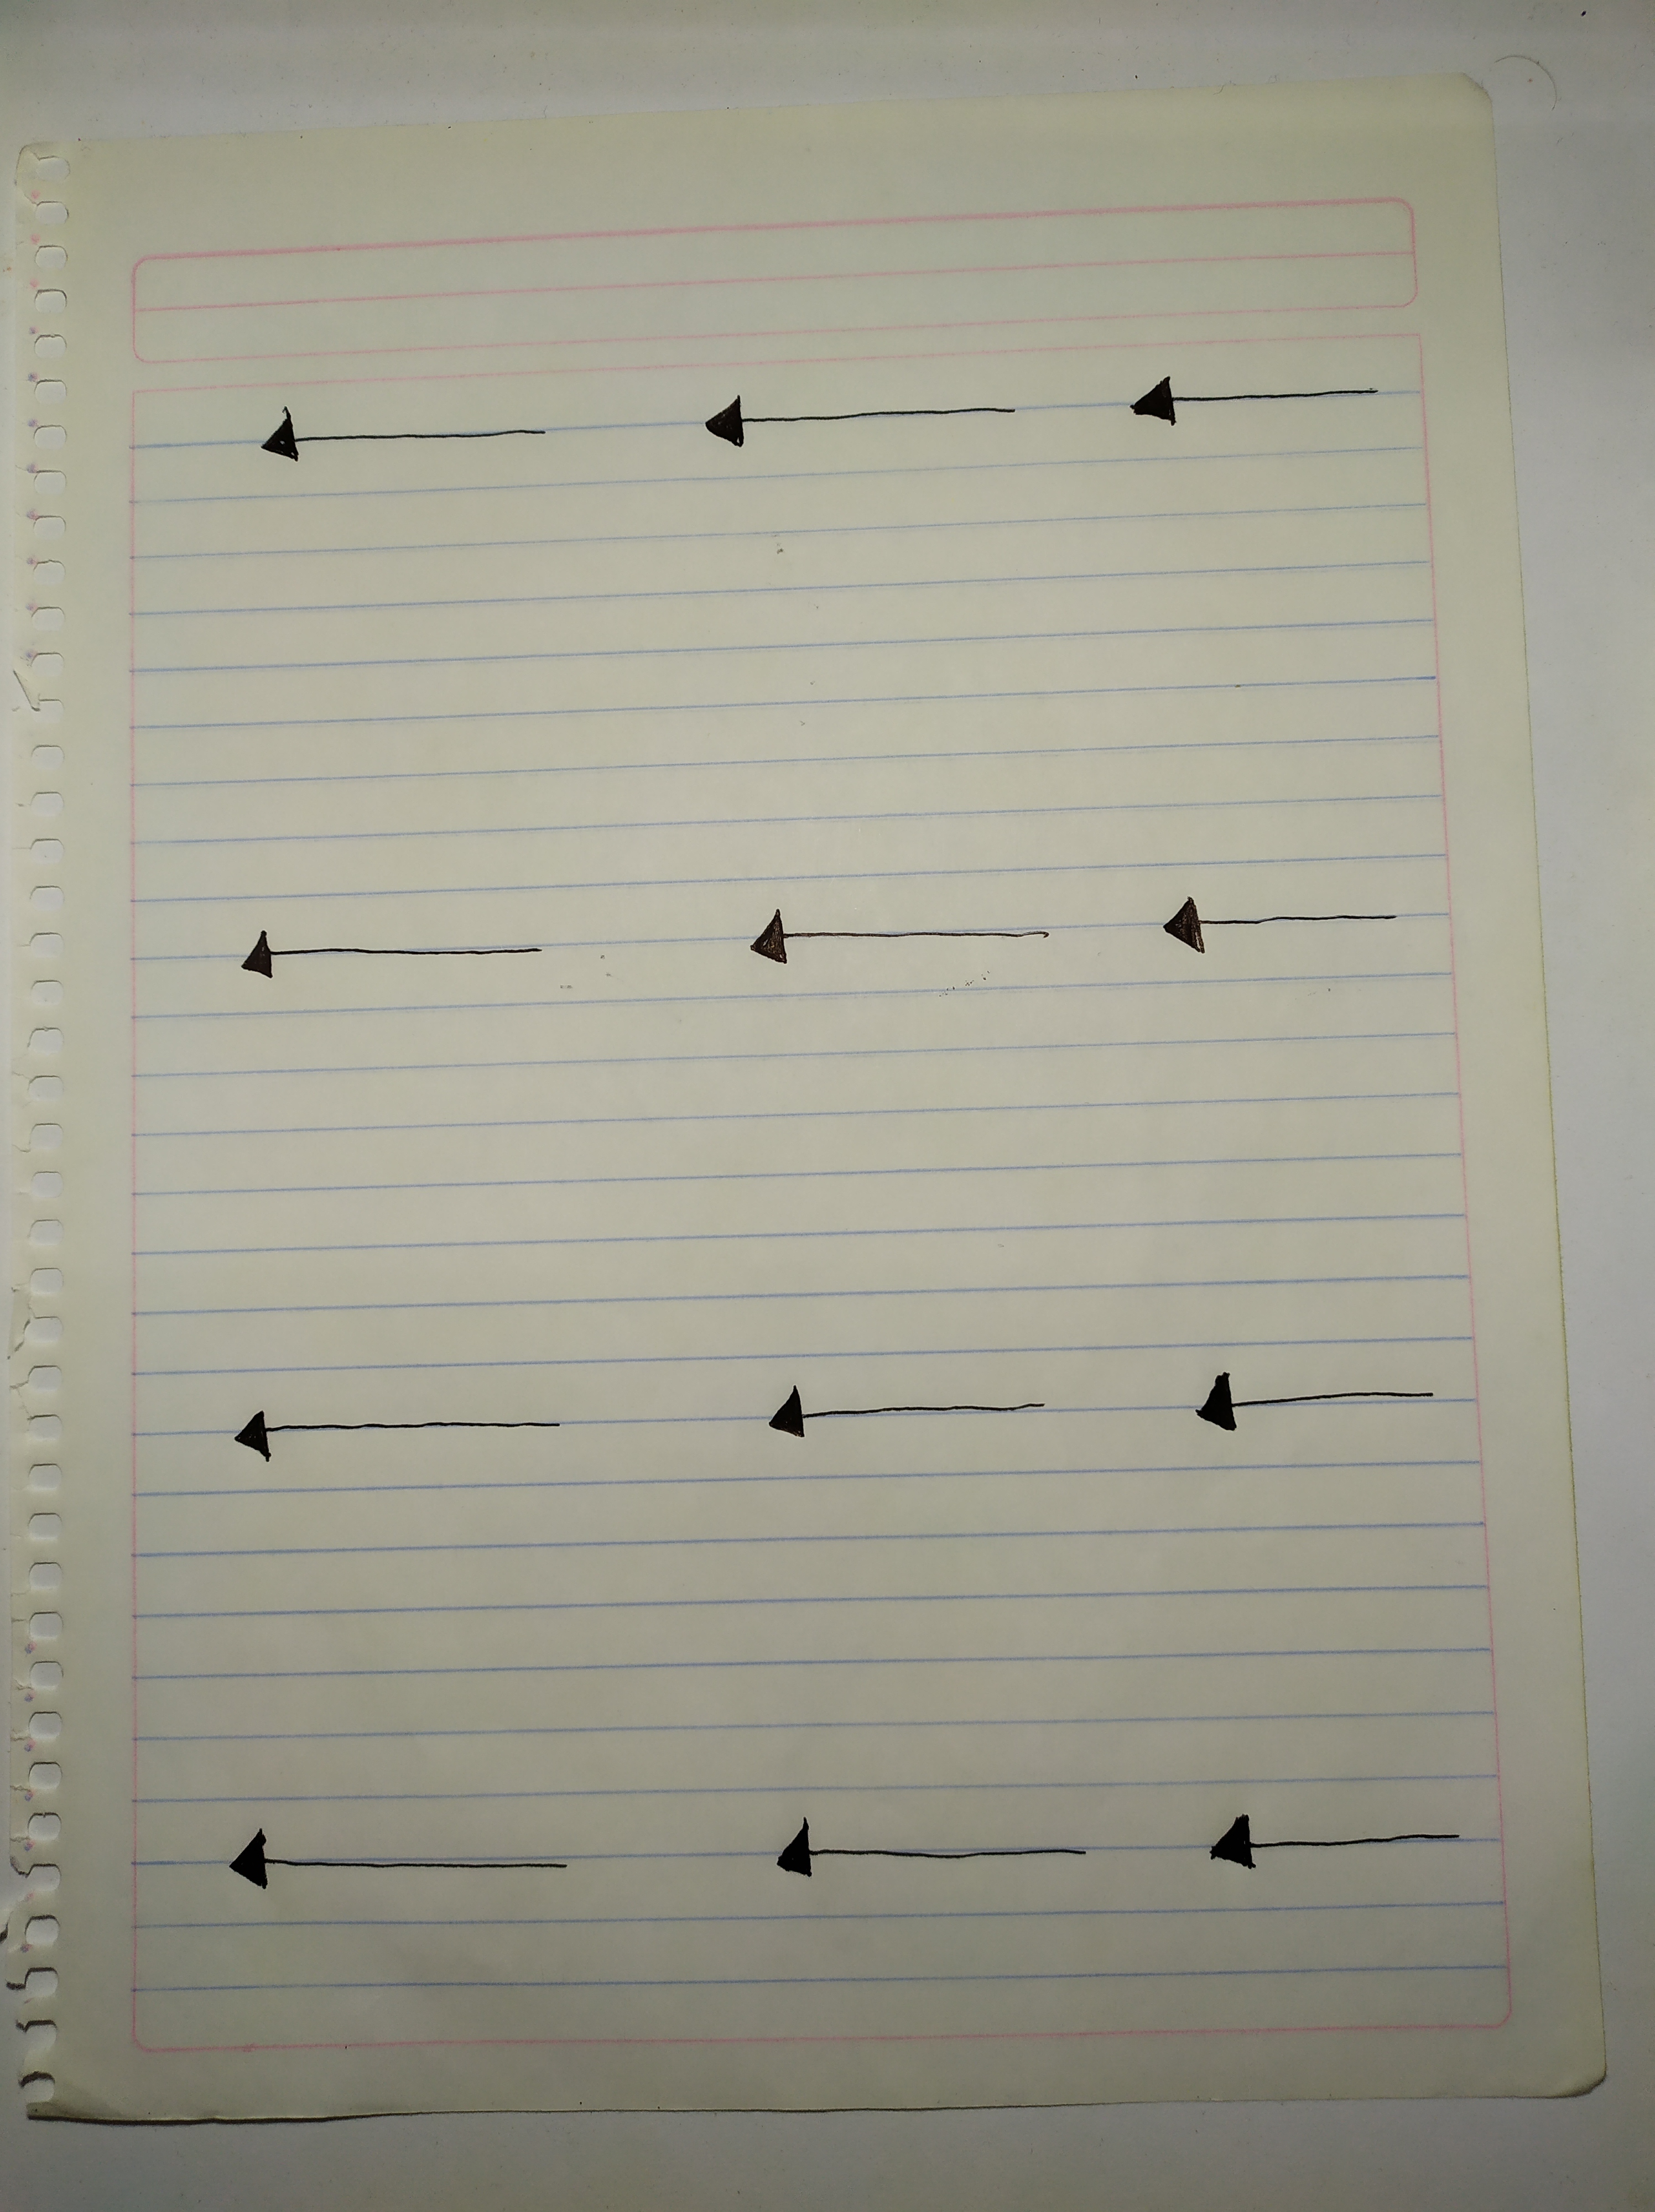arrow_line_left: (196, 1816, 600, 1924), (728, 1800, 1127, 1899), (198, 1394, 602, 1482), (720, 891, 1083, 985), (212, 904, 574, 997), (723, 1374, 1092, 1465), (228, 394, 582, 480), (675, 384, 1055, 457), (1102, 367, 1419, 448), (1128, 890, 1441, 970), (1175, 1809, 1485, 1882), (1161, 1362, 1460, 1437)
